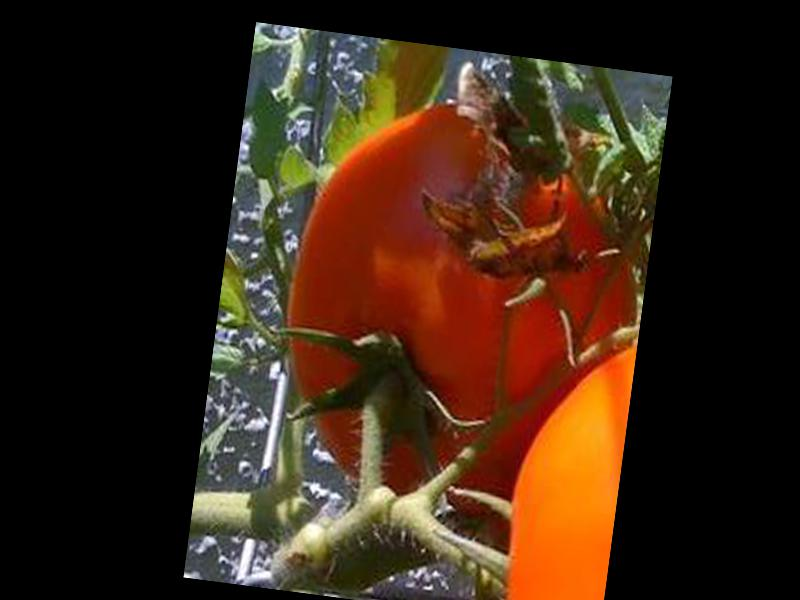Tomato: (264, 81, 654, 525)
